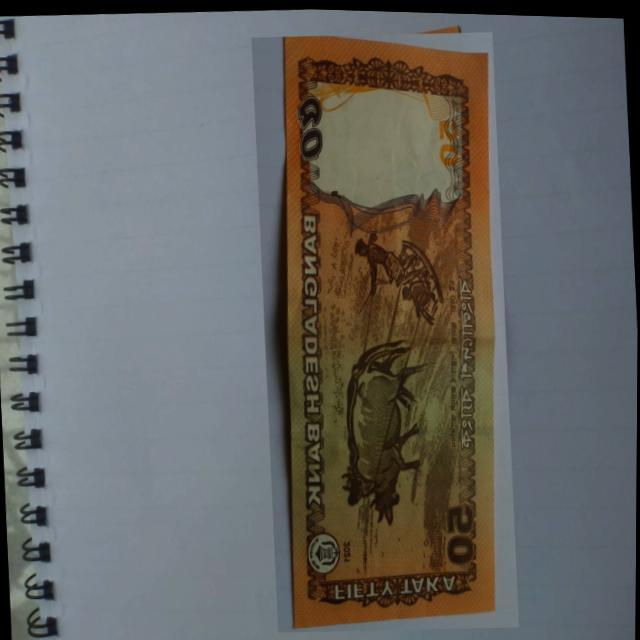Taka: (248, 23, 523, 637)
